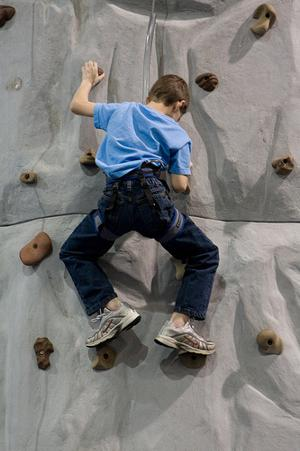person: (60, 60, 221, 357)
